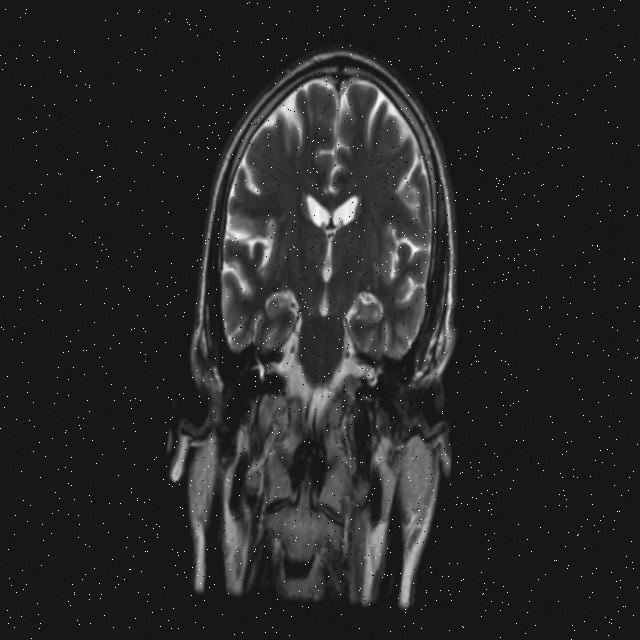NoTumor: (187, 30, 486, 382)
